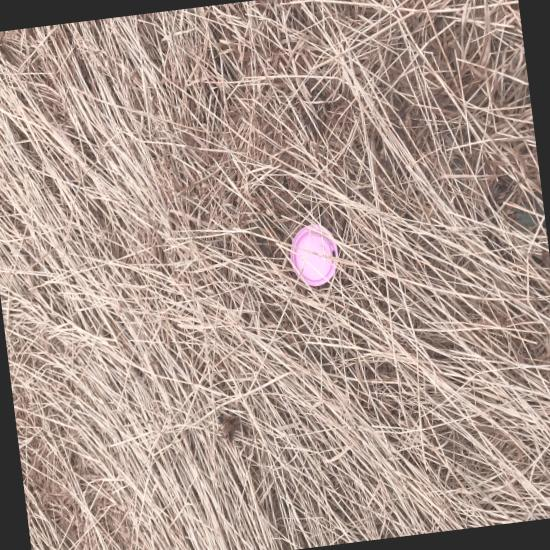Other plastic: (240, 256, 279, 296), (221, 264, 244, 289)
